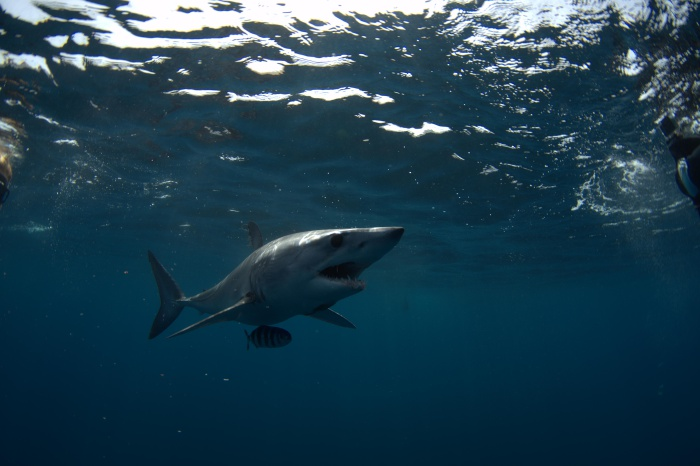Mako: (125, 217, 410, 355)
